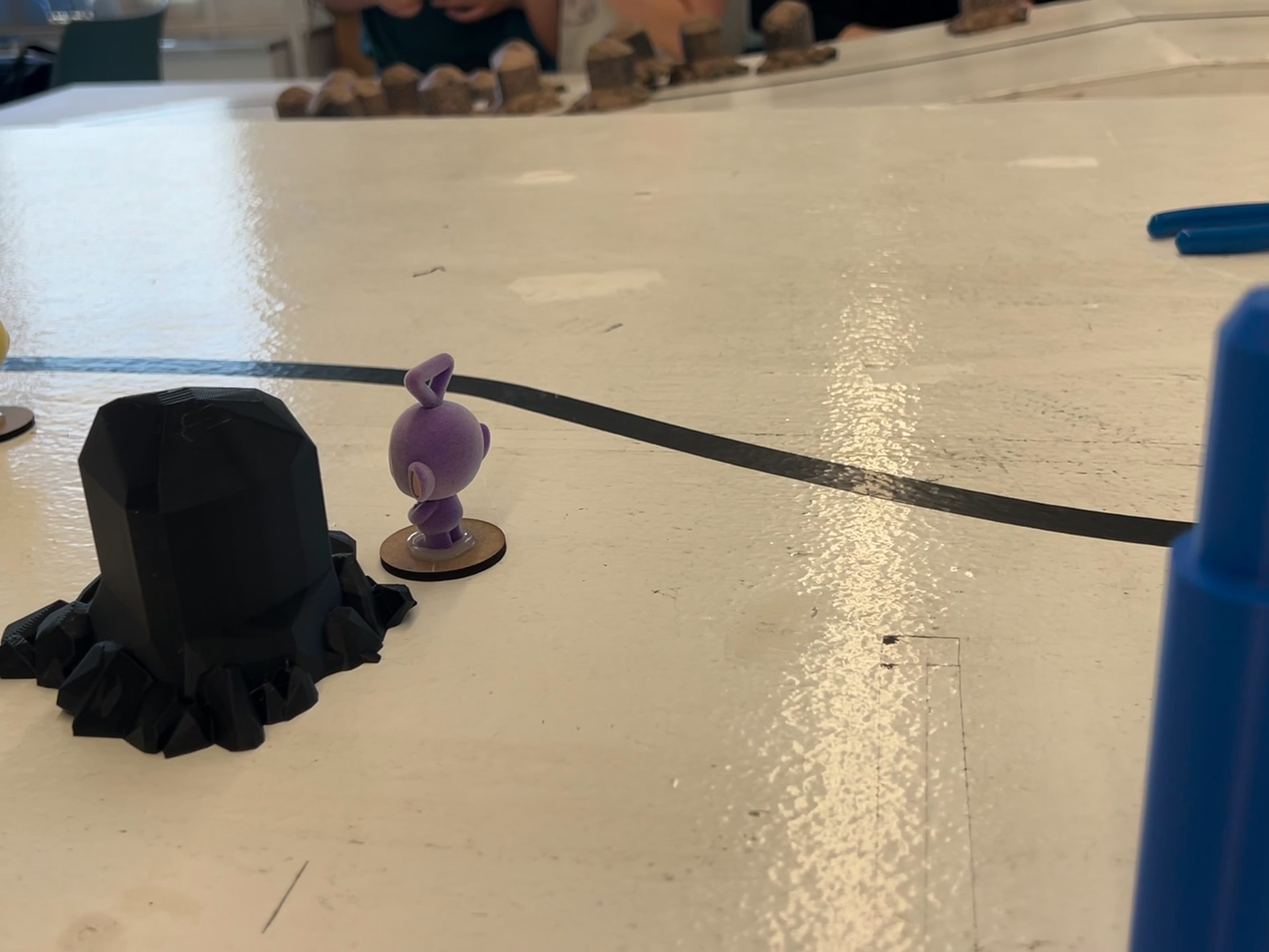teletubby: (389, 354, 490, 549), (0, 319, 10, 365)
